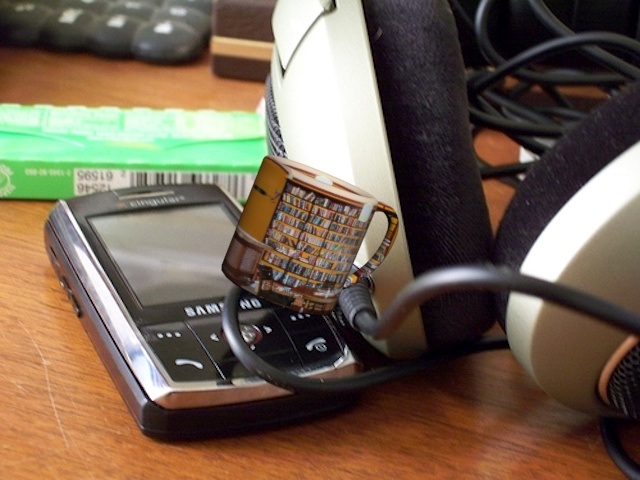mug: (209, 145, 401, 321)
